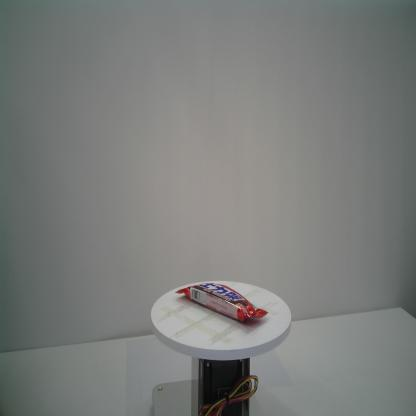Chocolate: (175, 283, 269, 323)
